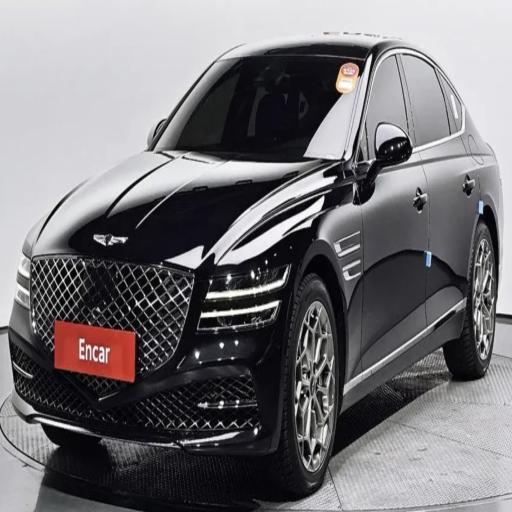normal: (28, 12, 496, 471)
